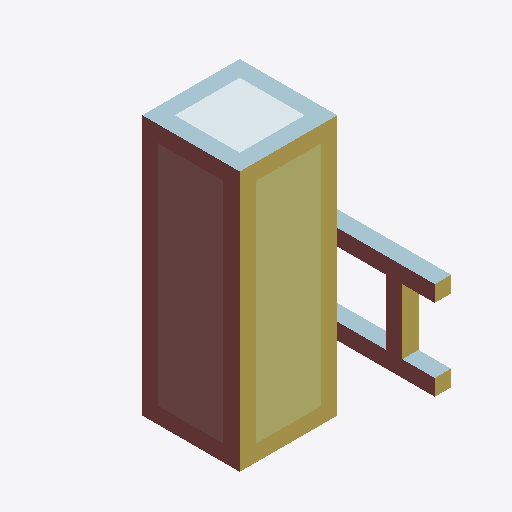
A Minecraft block model of 8 cuboids, rendered isometrically (azimuth 45°, elevation 35.3°) with the resource pack's own textures.
Visible parts, largest first — Shape1, Shape2b, Shape2a, Shape3a.
Part boxes in pixels (left/top/right/bottom): Shape1: left=142, top=59, right=336, bottom=471; Shape2b: left=337, top=209, right=450, bottom=302; Shape2a: left=337, top=303, right=450, bottom=396; Shape3a: left=386, top=275, right=418, bottom=358.
Size of the model in its own units: 8 by 16 by 16.